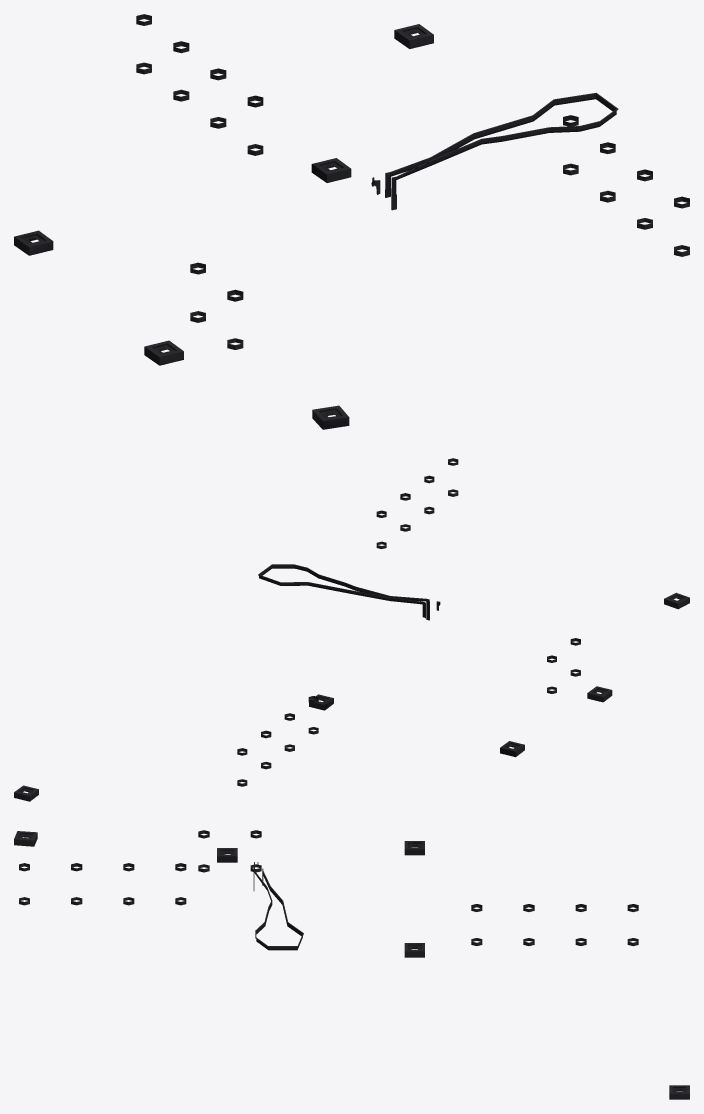
File: Ground_03.FBX
The picture shows the model from 3 angles, top to bottom: view 1: azimuth 30°, elevation 25°; view 2: azimuth 150°, elevation 25°; view 3: azimuth 270°, elevation 25°; orthographic projection. The views are drawn at different scales.
Parts seen in each view (by area): view 1: Ground_03; view 2: Ground_03; view 3: Ground_03.
Part boxes in pixels (<box>): Ground_03: <box>14,14,689,429</box>; Ground_03: <box>14,458,689,801</box>; Ground_03: <box>14,830,689,1099</box>.
Size of the model in its own units: 27.01 by 9.96 by 37.71.
